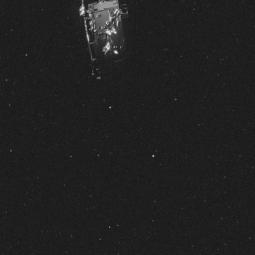lisa_pathfinder: (77, 0, 156, 88)
